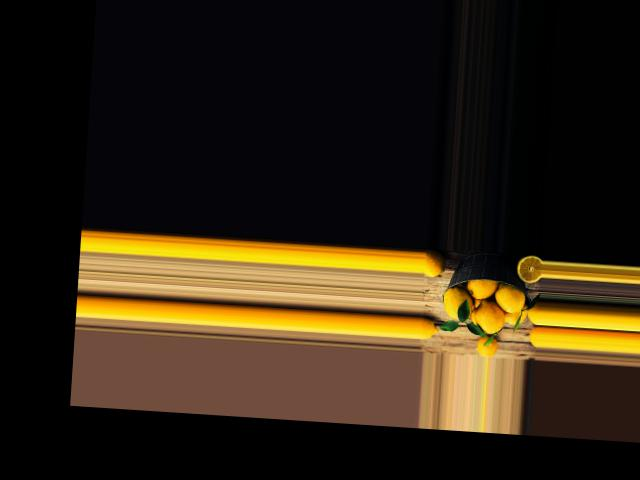lemon: (490, 274, 526, 313)
